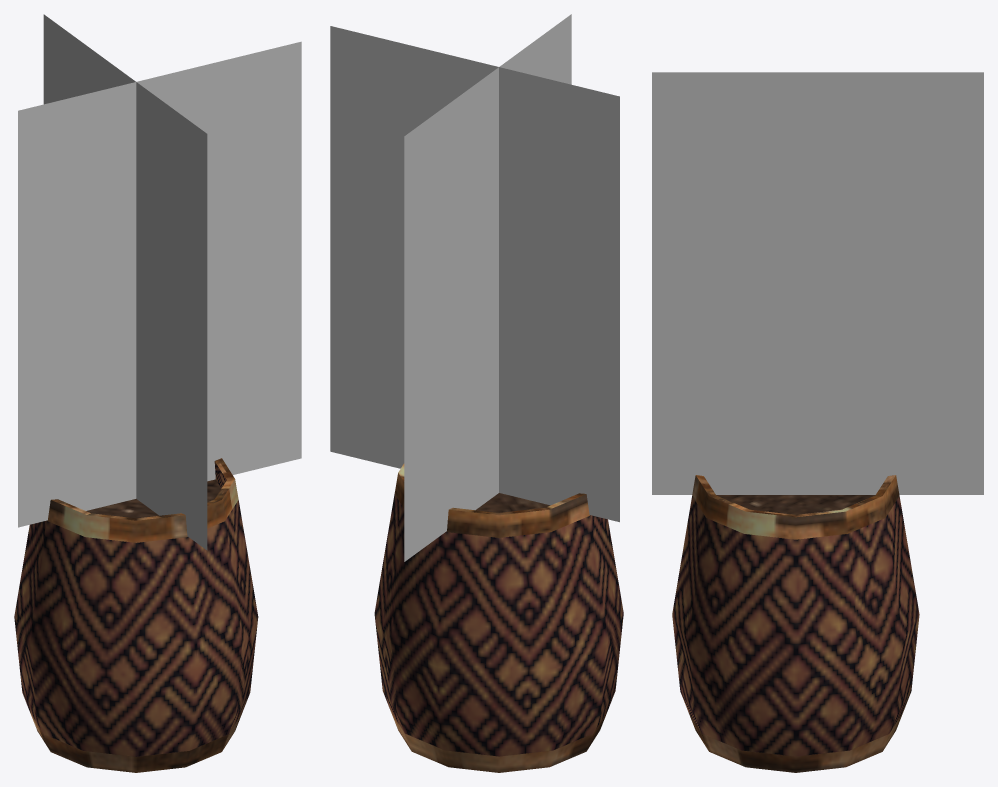
Rendered from plant_02.fbx.
3 views of the same model, side by side, from view 1: azimuth 30°, elevation 25°; view 2: azimuth 150°, elevation 25°; view 3: azimuth 270°, elevation 25° (orthographic). The views are drawn at different scales.
Visible parts, largest first — view 1: plant_02; view 2: plant_02; view 3: plant_02.
Boxes of the visible parts, x1,y1,x2,y2 form: plant_02: [14, 14, 301, 772]; plant_02: [330, 14, 623, 772]; plant_02: [652, 72, 983, 772].
Size of the model in its own units: 84 by 184 by 84.
